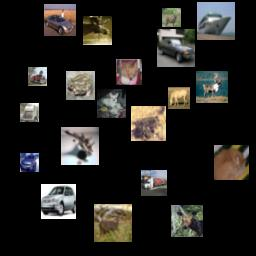airplane: (61, 127, 99, 165)
automobile: (157, 29, 195, 67), (41, 184, 76, 219), (44, 4, 76, 36), (20, 153, 39, 172)
cat: (214, 145, 249, 180)
deer: (94, 204, 132, 242), (171, 205, 203, 237), (196, 71, 228, 103), (83, 16, 112, 45), (162, 8, 181, 27)
dog: (97, 89, 126, 118), (116, 59, 142, 85)
frog: (131, 106, 166, 141), (66, 71, 95, 100)
ship: (197, 2, 235, 40)
truck: (141, 170, 167, 196), (20, 103, 39, 122), (28, 67, 47, 86)
